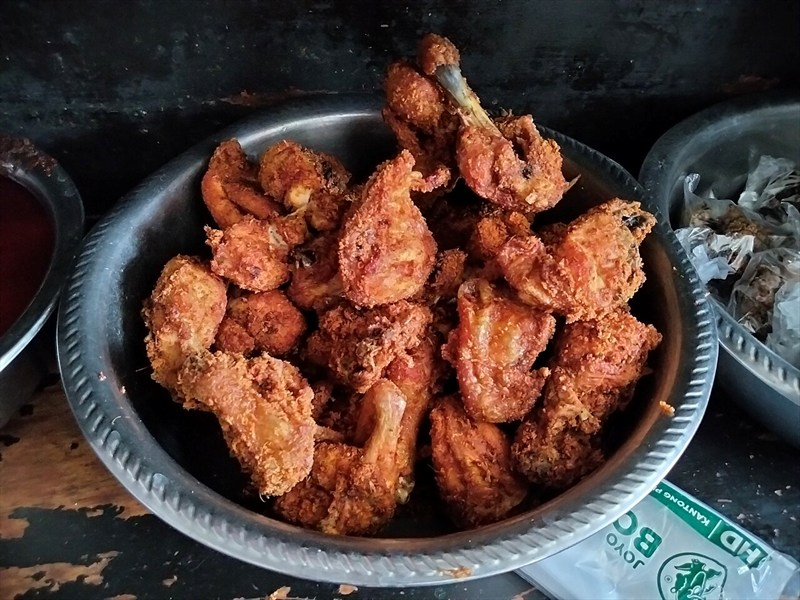Ayam Goreng: (147, 114, 733, 576)
